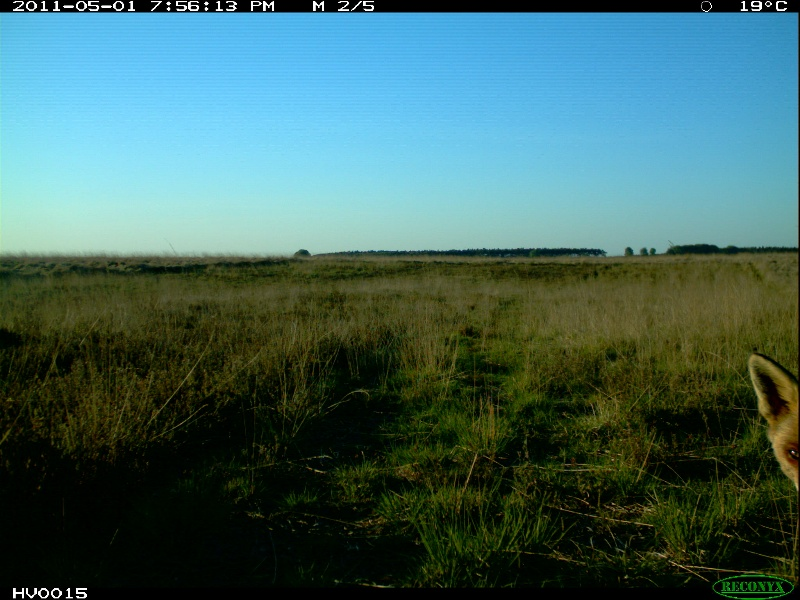fox: (746, 347, 800, 504)
